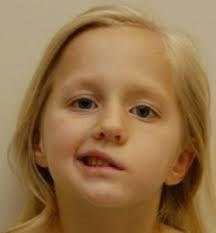strokeEyeMid: (63, 77, 166, 125)
strokeMouthSevere: (74, 146, 131, 178)
